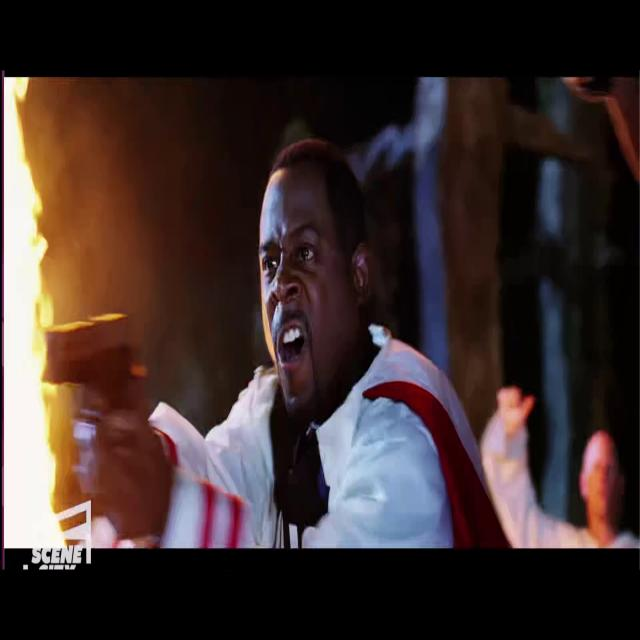weapons: (32, 298, 150, 484)
